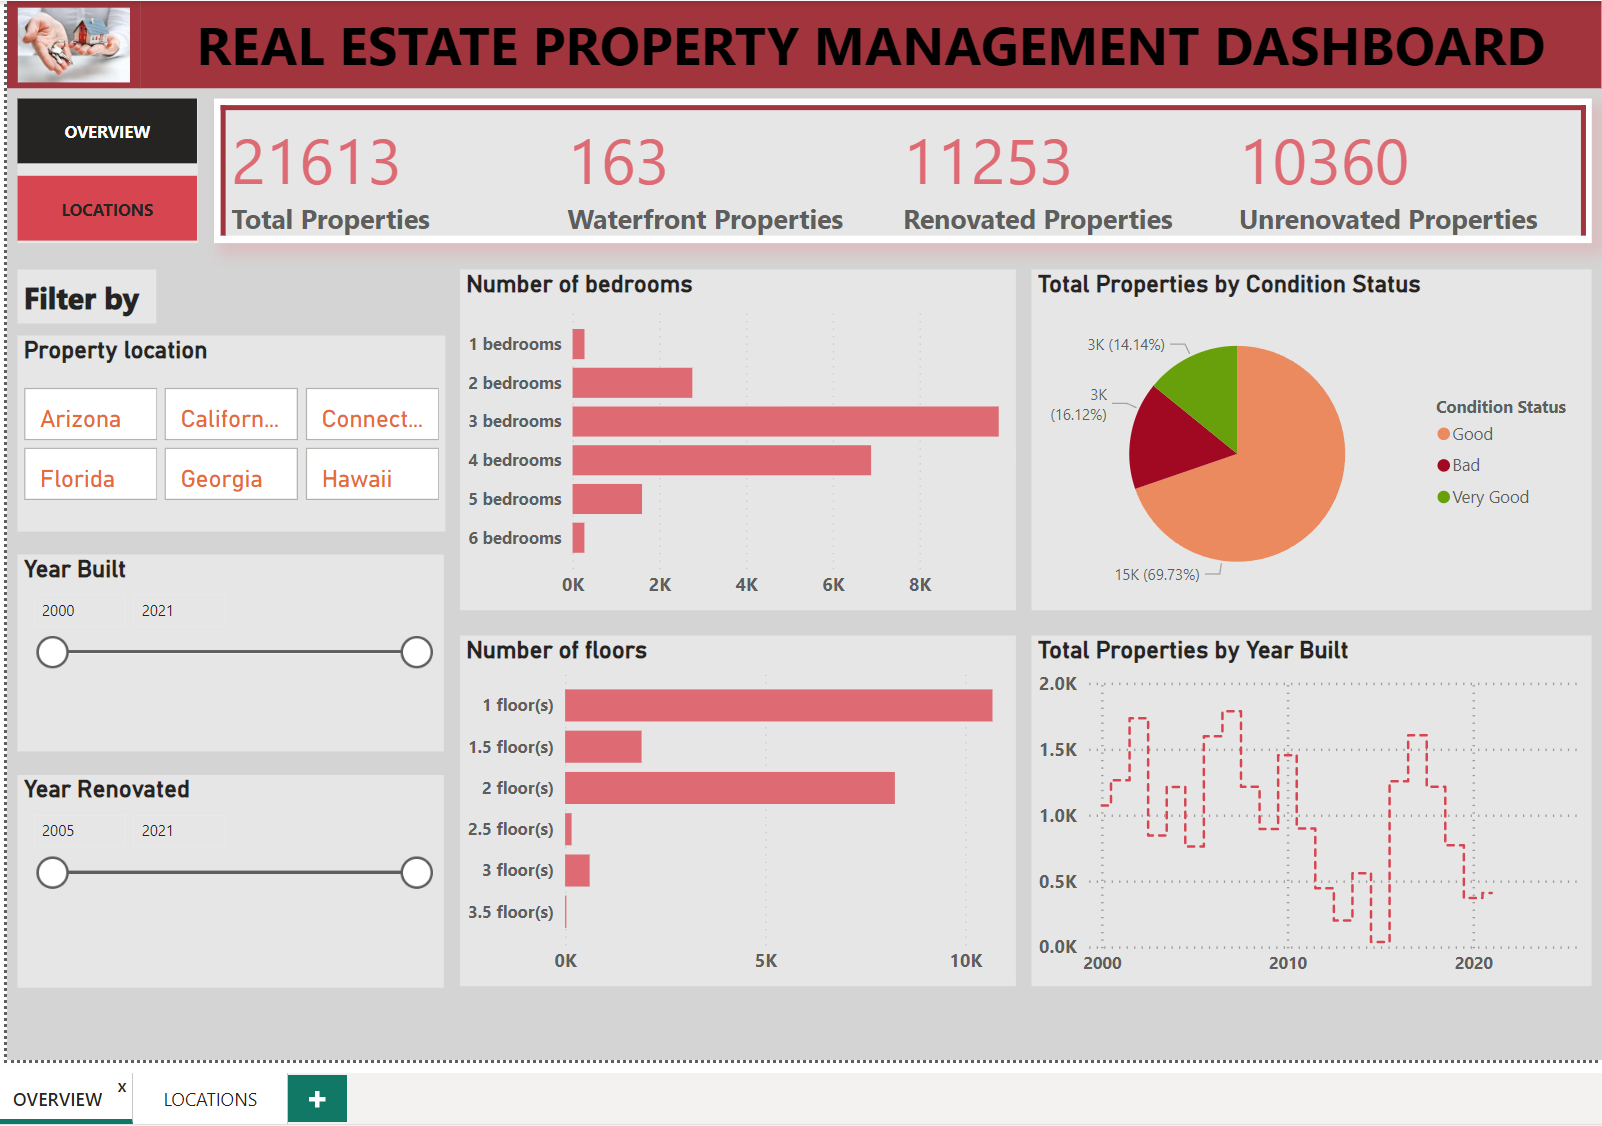

What the dashboard file says about the page in this screenshot:
{"tool":"powerbi","page":{"name":"OVERVIEW","canvas":[1280,850],"ordinal":0},"visuals":[{"type":"textbox","box":[107.5,0,1172.1,70.1],"z":0},{"type":"image","box":[0,0,107.5,70.1],"z":1000},{"type":"barChart","title":"Number of bedrooms","fields":{"Category":["Dim_Bedroomstatus.Bedrooms"],"Y":["Dim_Bedroomstatus.Total Properties"]},"box":[363.7,215.1,445.9,273.1],"z":2000},{"type":"multiRowCard","fields":{"Values":["Dim_Bedroomstatus.Total Properties","Dim_Waterfront status.Waterfront YES","Dim_Renovated Status.Renovated status yes","Dim_Renovated Status.Unrenovated Properties"]},"box":[165.5,78.5,1105.6,116],"z":3000},{"type":"pieChart","fields":{"Category":["Fact Table.Condition Status"],"Y":["Dim_Bedroomstatus.Total Properties"]},"box":[821.7,215.1,449.5,273.1],"z":4000},{"type":"barChart","title":"Number of floors","fields":{"Category":["Fact Table.Floors"],"Y":["Dim_Bedroomstatus.Total Properties"]},"box":[363.7,508.7,445.9,281.5],"z":5000},{"type":"lineChart","title":"Total Properties by Year Built","fields":{"Y":["Dim_Bedroomstatus.Total Properties"],"Category":["Fact Table.yr_built"]},"box":[821.7,508.7,449.5,281.5],"z":6000},{"type":"advancedSlicerVisual","fields":{"Values":["Fact Table.Property location"]},"box":[8.5,268.2,343.2,157.1],"z":7000},{"type":"textbox","box":[8.5,215.1,111.2,43.5],"z":8000},{"type":"slicer","title":"Year Built","fields":{"Values":["Fact Table.Year built"]},"box":[8.6,443.7,341.8,158],"z":9000},{"type":"slicer","title":"Year Renovated","fields":{"Values":["Fact Table.Year Renovated"]},"box":[8.6,620.4,341.8,170.9],"z":10000},{"type":"pageNavigator","box":[8.5,78.5,145,116],"z":11000}]}

Visuals, with their boxes on the page's 1280x850 design canvas (x1, y1, x2, y2). These are canvas units, not pixel positions in the 1602x1126 screenshot, which may show the page scaled, cropped or inside an application window:
textbox: locate(108, 0, 1280, 70)
image: locate(0, 0, 108, 70)
"Number of bedrooms" barChart: locate(364, 215, 810, 488)
multiRowCard - Dim_Bedroomstatus.Total Properties x Dim_Waterfront status.Waterfront YES: locate(166, 78, 1271, 194)
pieChart - Fact Table.Condition Status x Dim_Bedroomstatus.Total Properties: locate(822, 215, 1271, 488)
"Number of floors" barChart: locate(364, 509, 810, 790)
"Total Properties by Year Built" lineChart: locate(822, 509, 1271, 790)
advancedSlicerVisual - Fact Table.Property location: locate(8, 268, 352, 425)
textbox: locate(8, 215, 120, 259)
"Year Built" slicer: locate(9, 444, 350, 602)
"Year Renovated" slicer: locate(9, 620, 350, 791)
pageNavigator: locate(8, 78, 154, 194)
